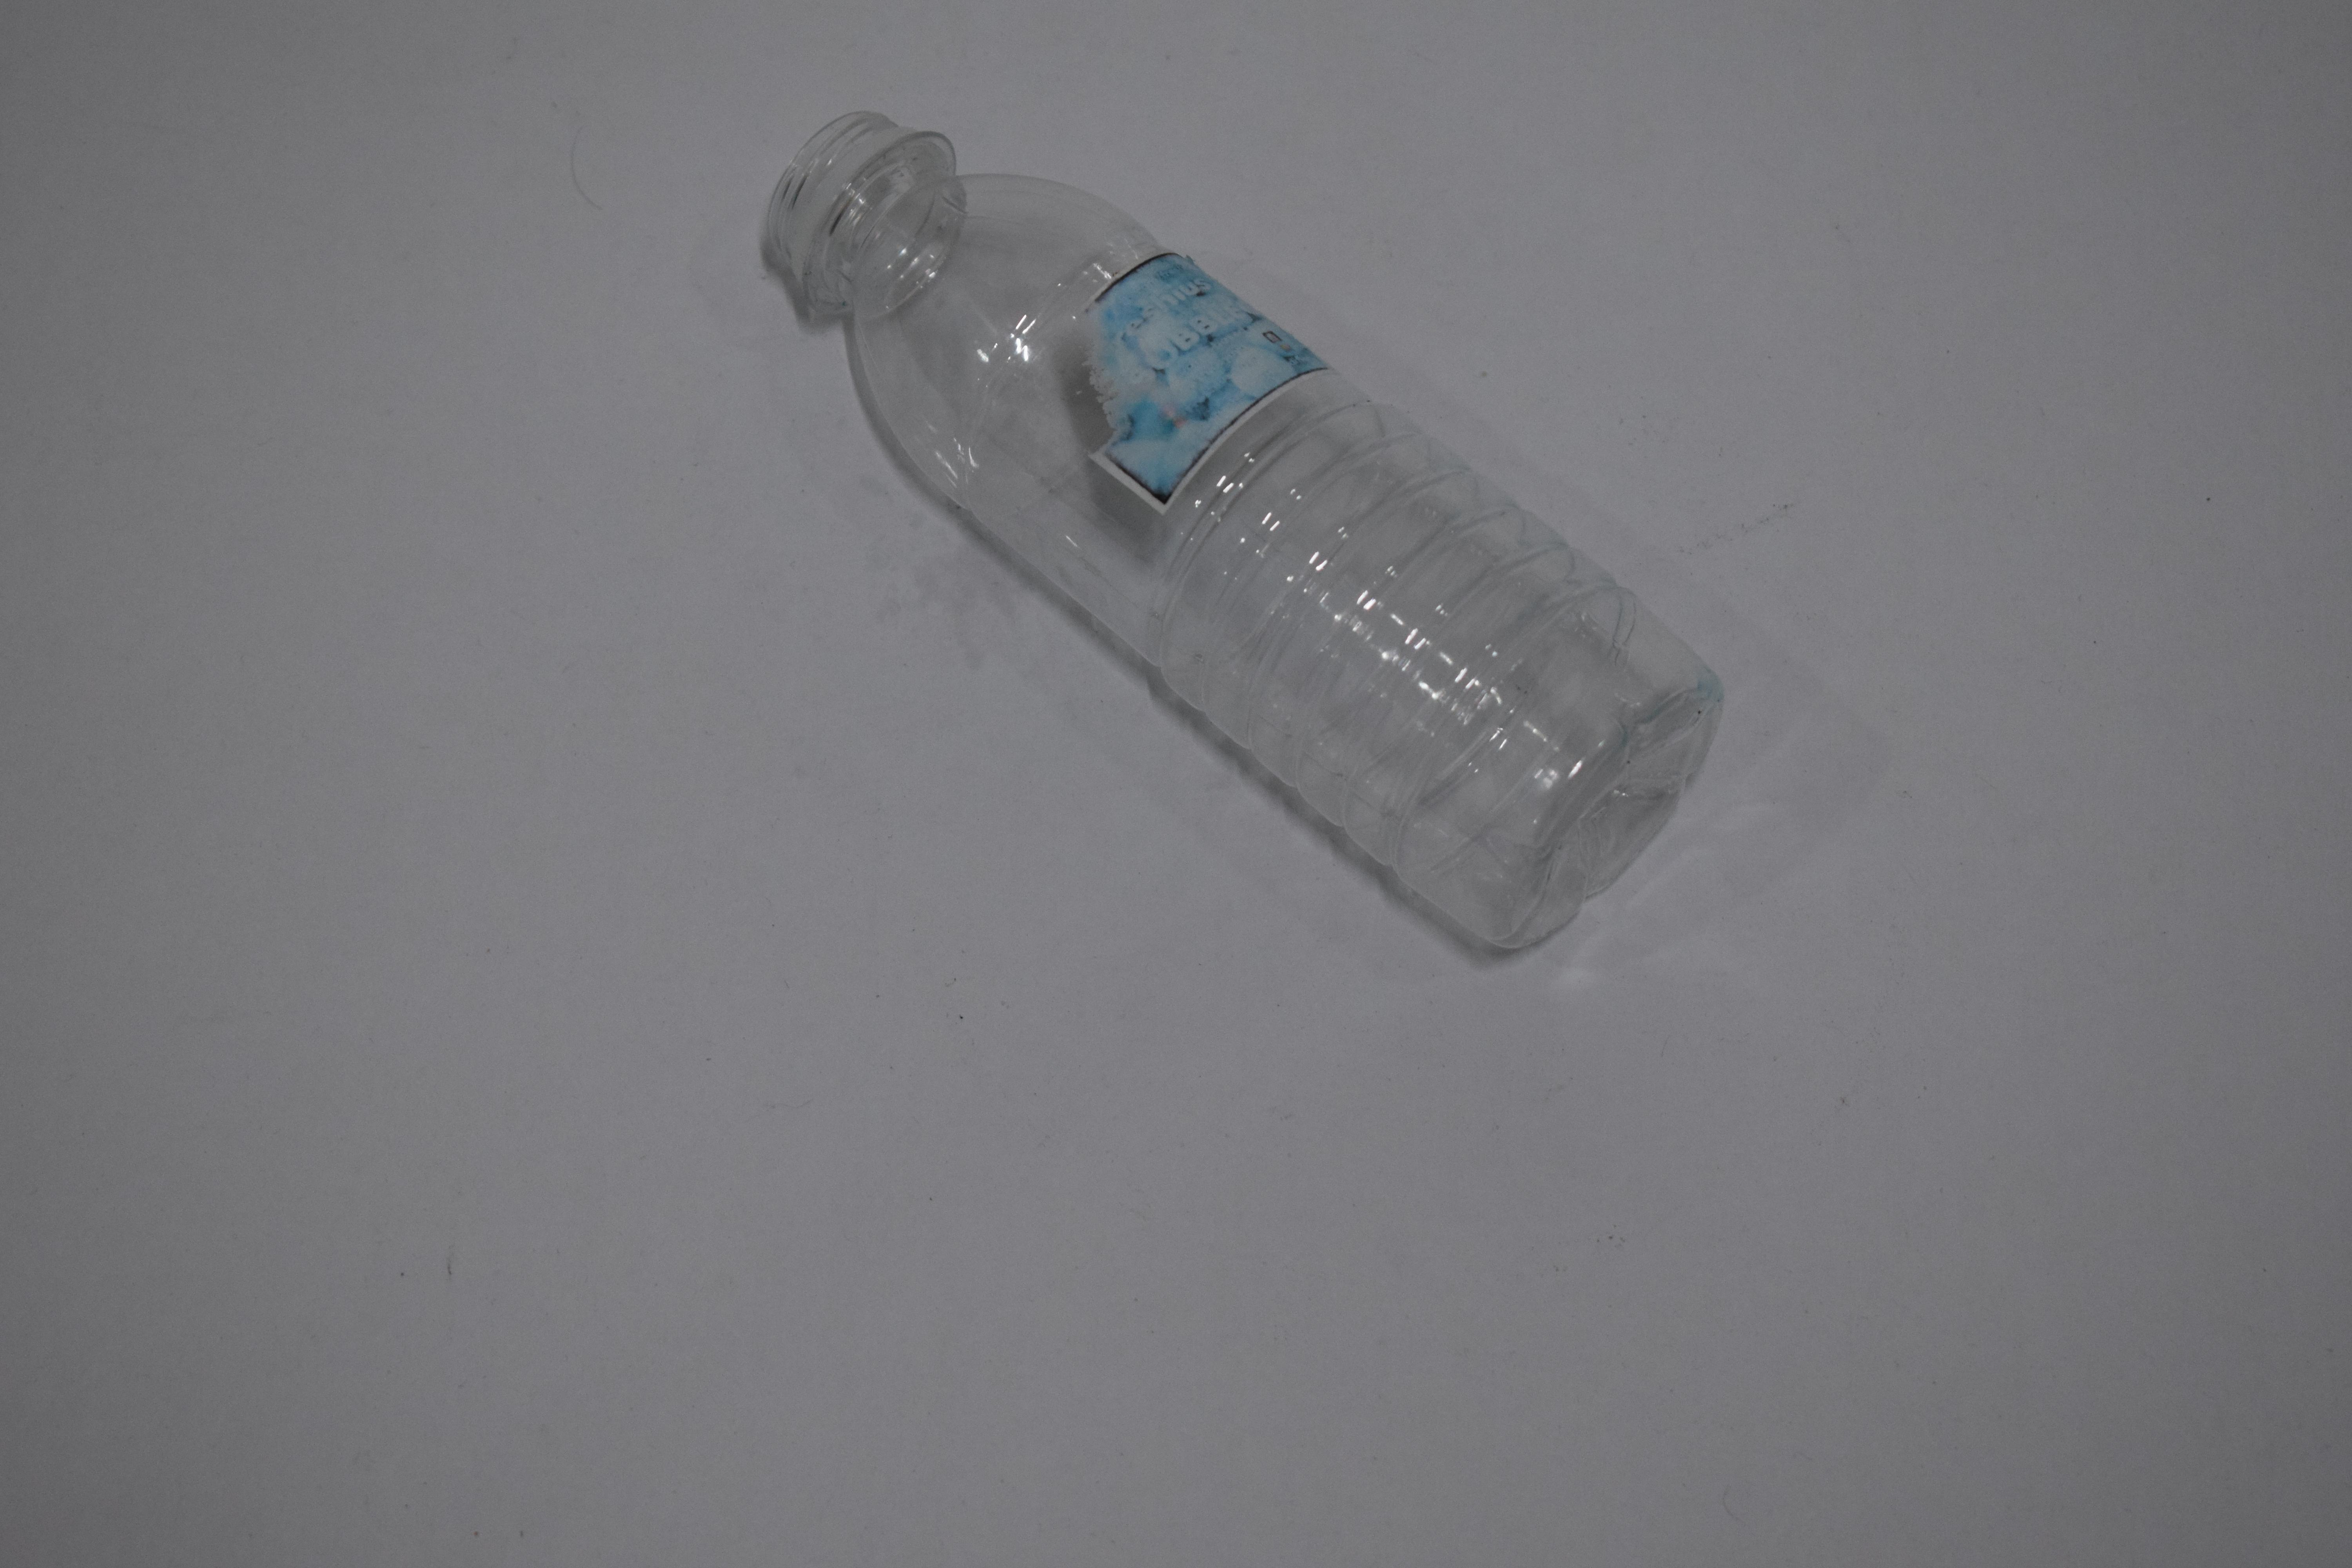bottle: (0, 525, 532, 537)
